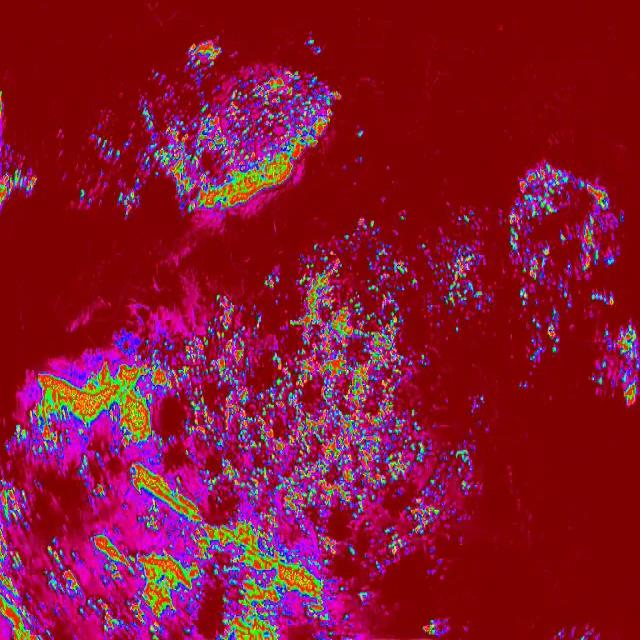fire: (0, 351, 397, 640), (110, 280, 493, 351), (173, 64, 344, 214), (508, 167, 612, 351), (398, 406, 477, 560), (82, 104, 174, 180), (306, 224, 408, 280), (422, 209, 487, 280), (594, 329, 640, 409), (72, 179, 141, 226), (0, 156, 39, 208), (181, 32, 222, 62)
